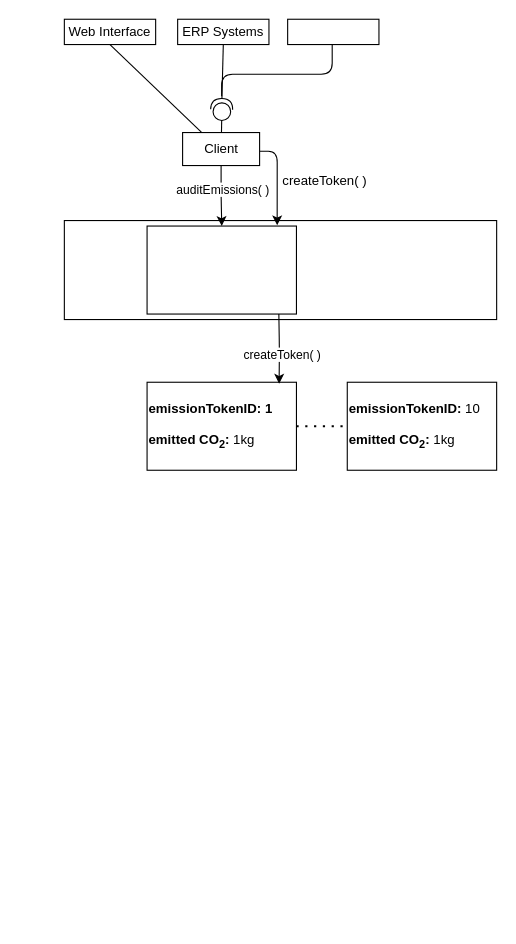
The diagram is 516 pixels wide and 944 high, and some of its shapes have lost their labels. Each missing label, with the box of its shape:
emissionRecordID : 1 emitted CO 2 : 10kg emittedBy : supplierID tokenized : TRUE: (146, 225, 296, 314)
Smart Meters: (287, 18, 379, 45)
